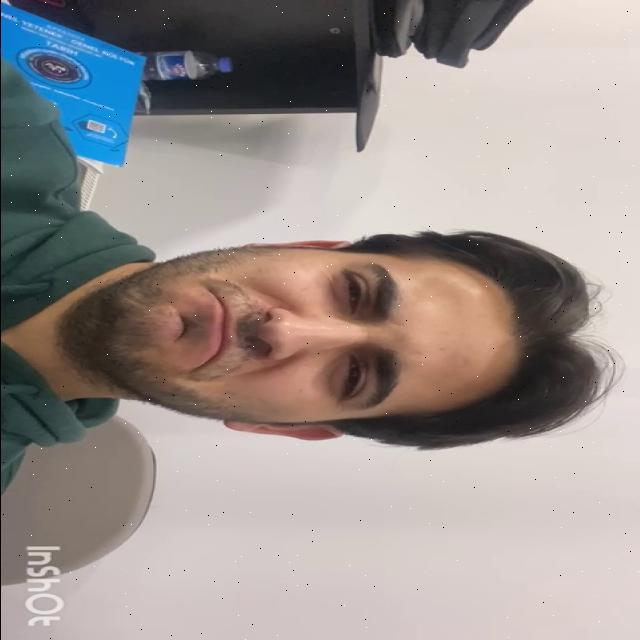sad: (128, 245, 498, 425)
